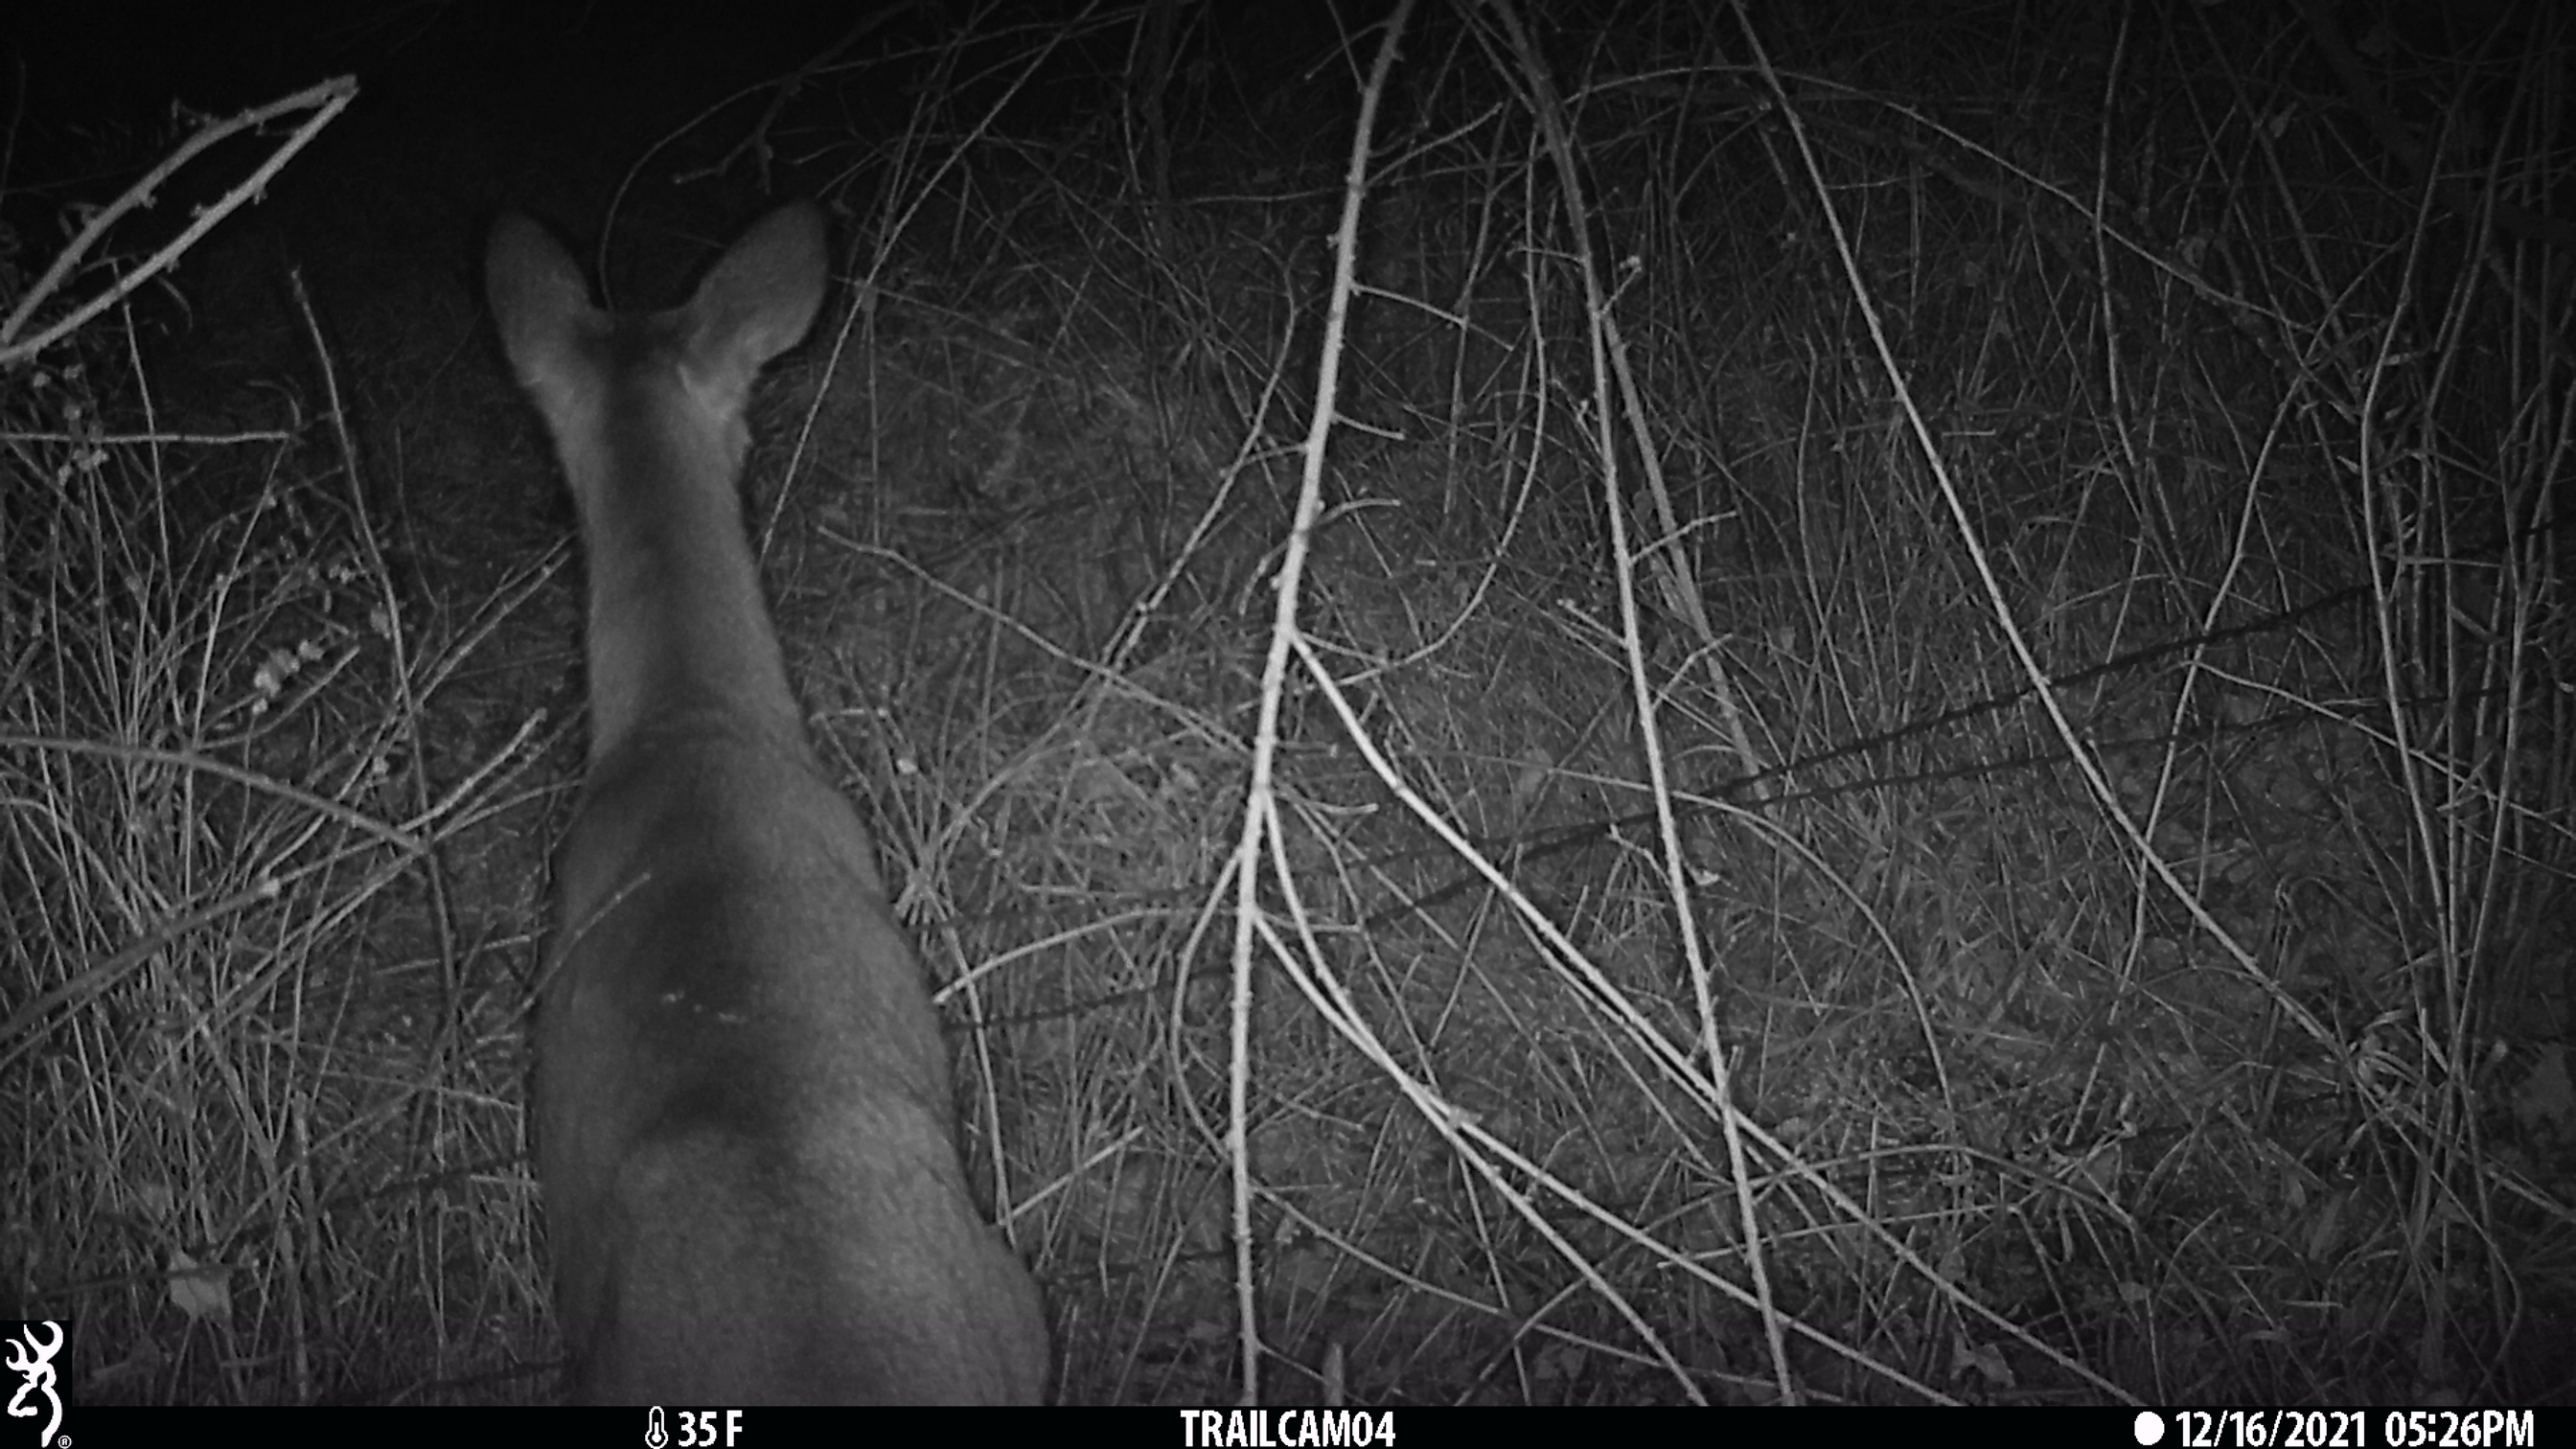Deer: (471, 203, 1051, 1407)
